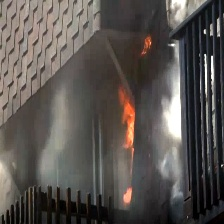fire: (115, 74, 137, 151), (121, 187, 131, 208), (142, 34, 151, 51)
smoke: (1, 60, 94, 215), (149, 58, 196, 208)
